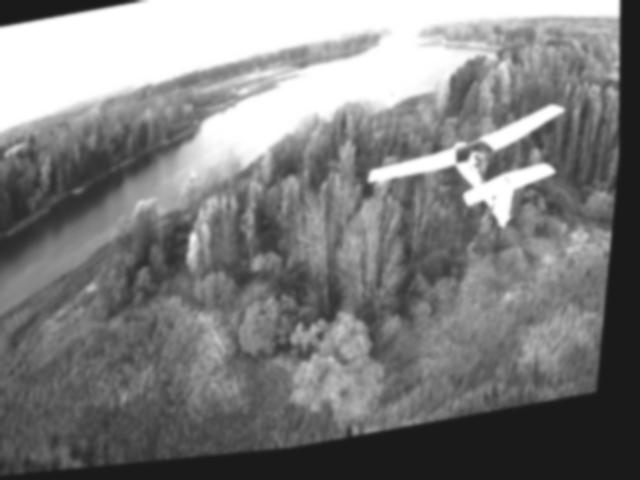hedef: (363, 106, 586, 258)
